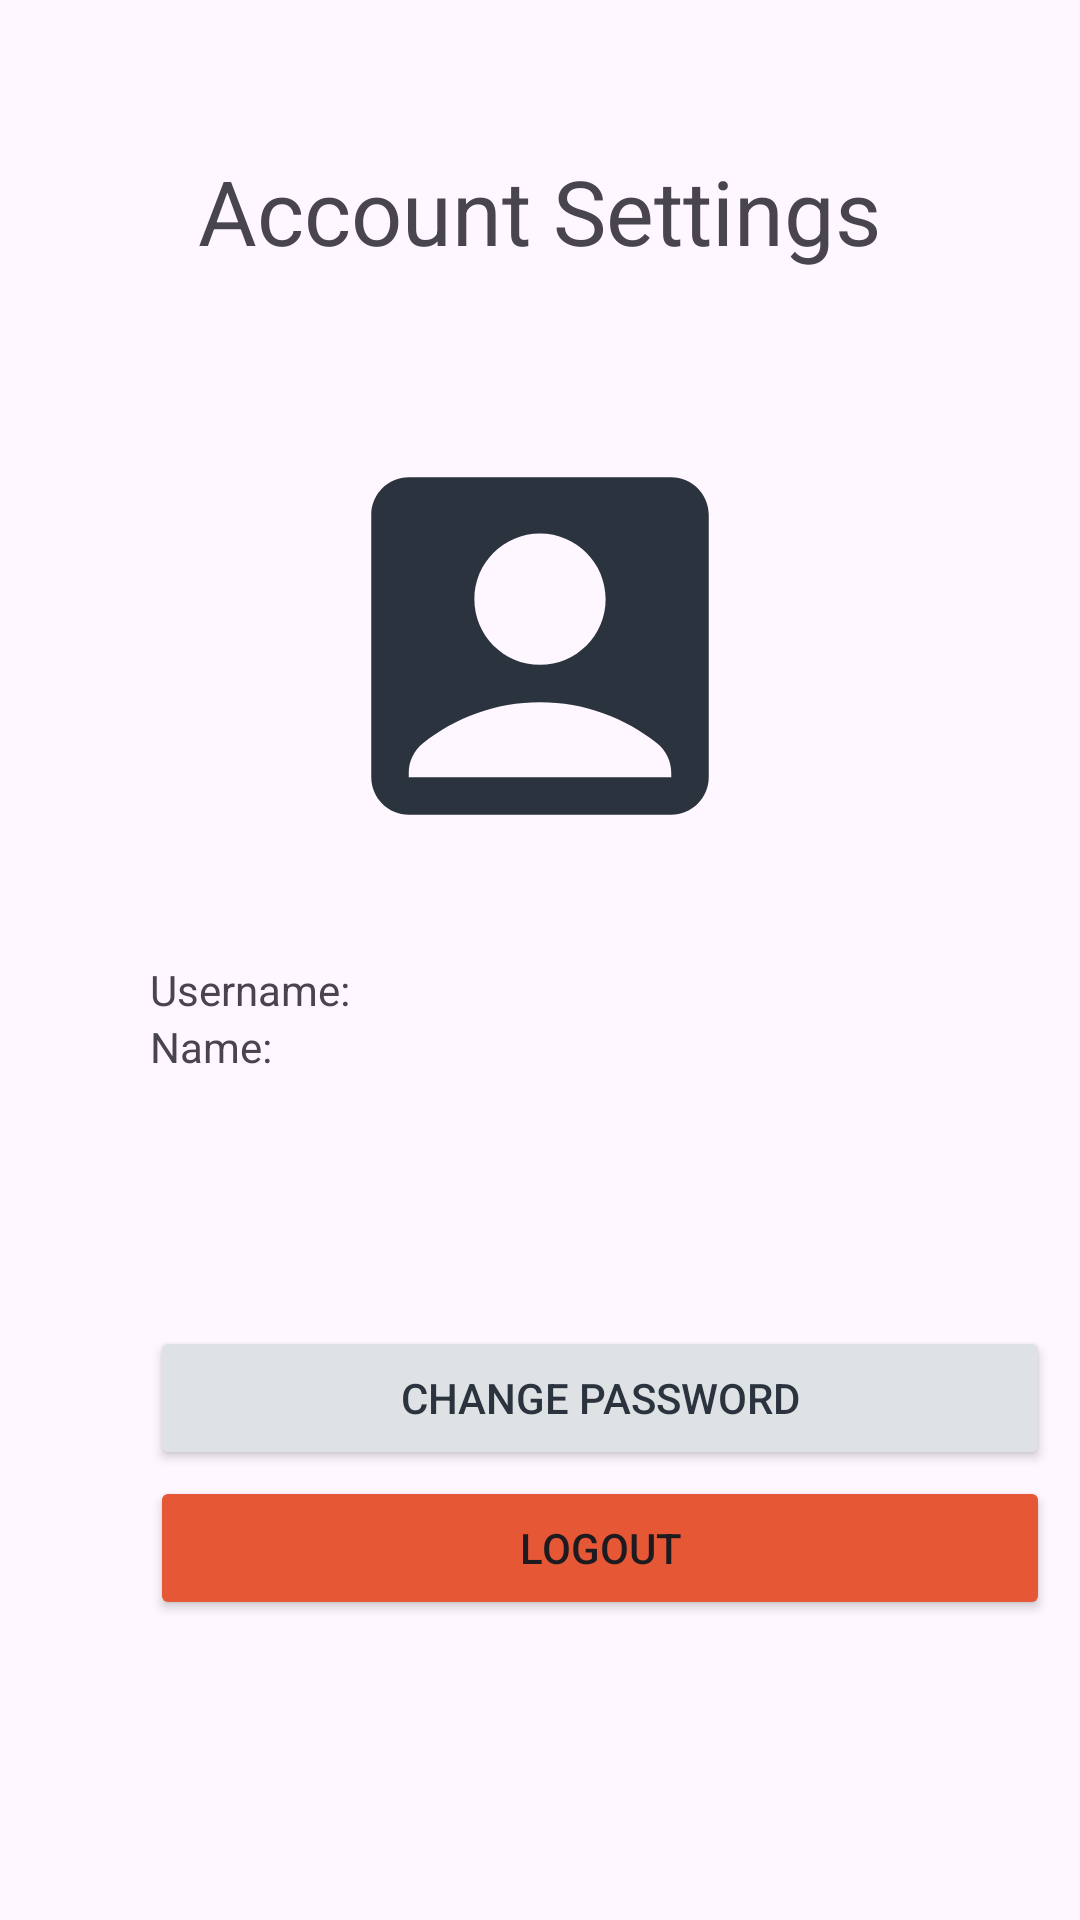

Named icons in this screenshot (1080px x 1920px) and their bounding boxes, region(x1, y1, x2, y2):
account box: region(371, 477, 709, 815)
